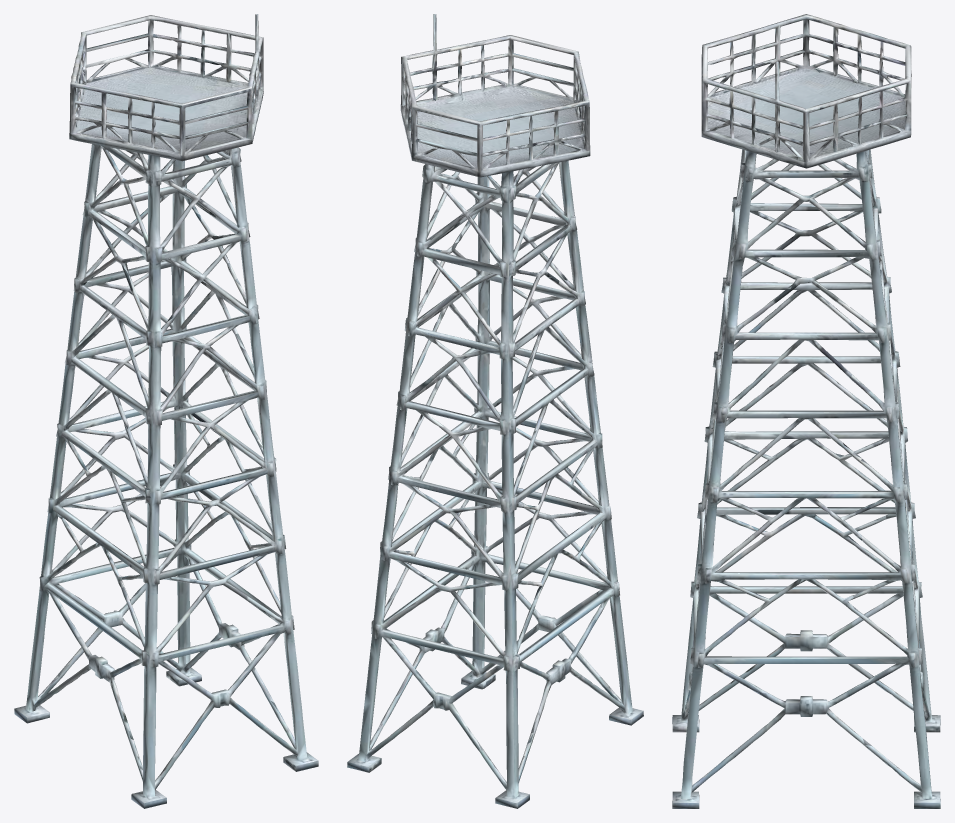
The model's file is tower.glb.
3 views of the same model, side by side, from view 1: azimuth 30°, elevation 25°; view 2: azimuth 150°, elevation 25°; view 3: azimuth 270°, elevation 25° (orthographic). The views are drawn at different scales.
Visible parts, largest first — view 1: tower; view 2: tower; view 3: tower.
Boxes of the visible parts, <box> form: tower: <box>14,14,318,808</box>; tower: <box>347,14,643,808</box>; tower: <box>672,14,940,808</box>.
Size of the model in its own units: 0.2837 by 1 by 0.3277.
Materials: 1 (1 with a texture image).
